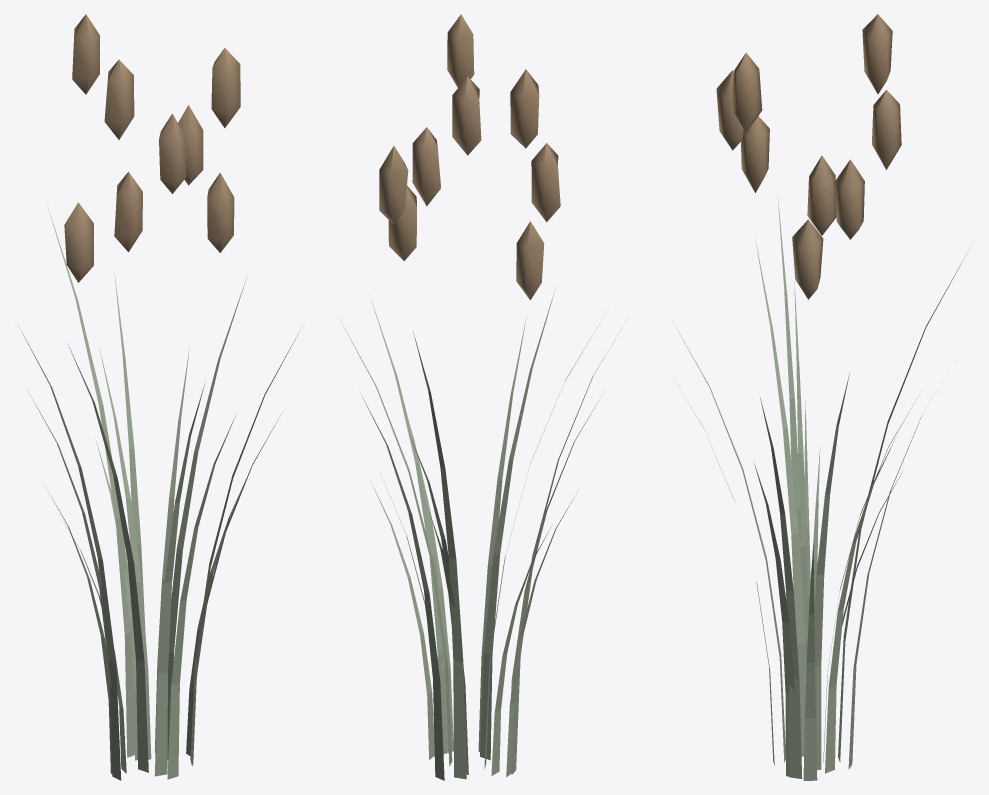
File: reed-clump.glb
The picture shows the model from 3 angles, left to right: view 1: azimuth 30°, elevation 25°; view 2: azimuth 150°, elevation 25°; view 3: azimuth 270°, elevation 25°; orthographic projection.
Parts seen in each view (by area): view 1: reed-clump; view 2: reed-clump; view 3: reed-clump.
Boxes of the visible parts, bbox=[...] form: reed-clump: bbox=[15, 14, 302, 780]; reed-clump: bbox=[337, 14, 620, 780]; reed-clump: bbox=[673, 14, 968, 780].
Bounding box in the file's own units: 0.6645 × 1.65 × 0.63.
